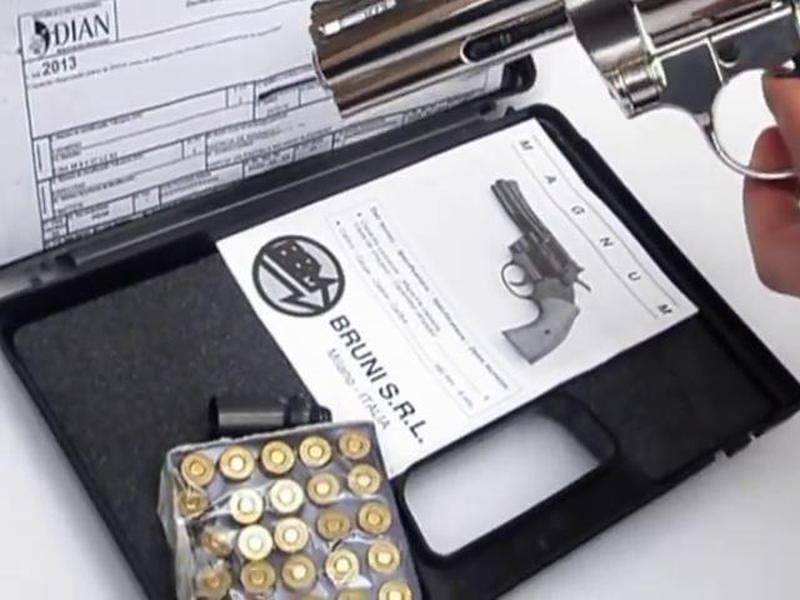Revolver: (299, 1, 800, 214)
